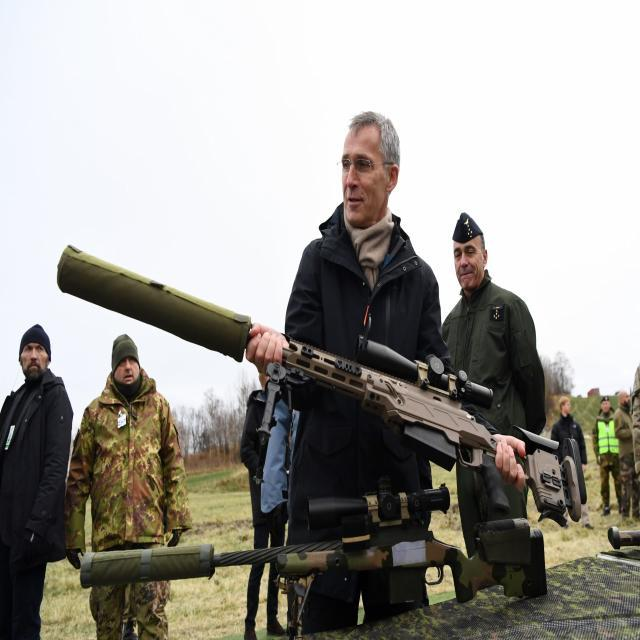rifle: (49, 224, 592, 522), (72, 482, 562, 640)
